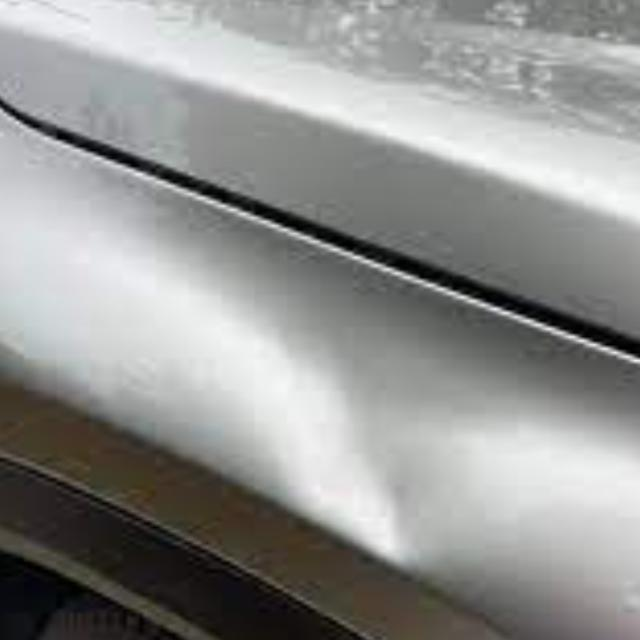dents: (225, 313, 492, 558)
